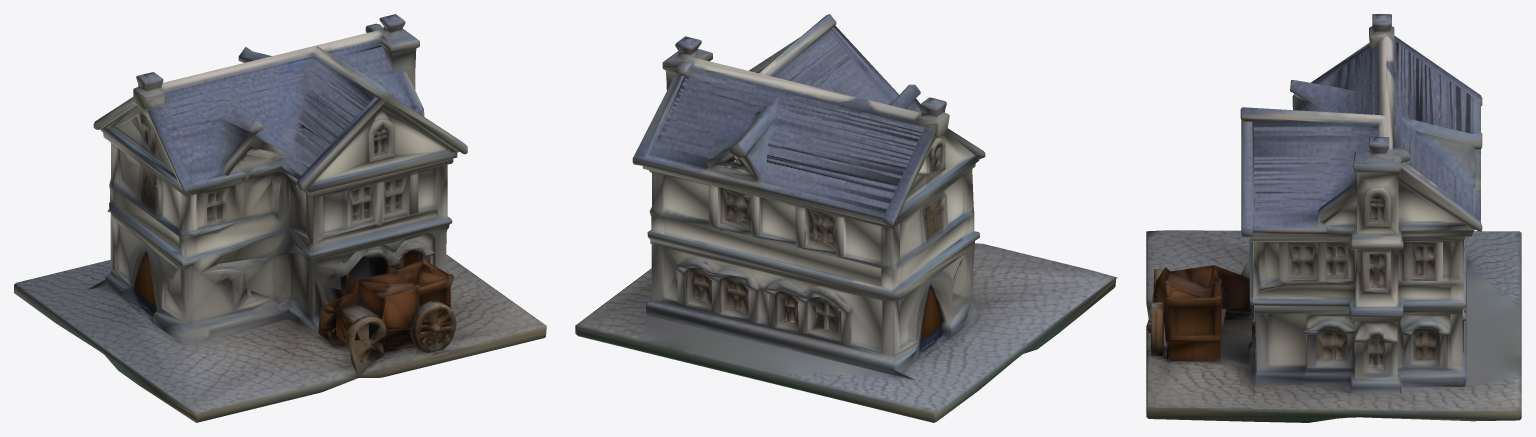
The model's file is merchants_guild.fbx.
3 views of the same model, side by side, from view 1: azimuth 30°, elevation 25°; view 2: azimuth 150°, elevation 25°; view 3: azimuth 270°, elevation 25° (orthographic). The views are drawn at different scales.
Visible parts, largest first — view 1: texture_pbr_v128; view 2: texture_pbr_v128; view 3: texture_pbr_v128.
Part boxes in pixels (x1,y1,x2,y2): texture_pbr_v128: [14, 14, 546, 422]; texture_pbr_v128: [575, 14, 1117, 422]; texture_pbr_v128: [1146, 14, 1521, 422].
Bounding box in the file's own units: 190 × 130 × 168.
Materials: 1 (1 with a texture image).
